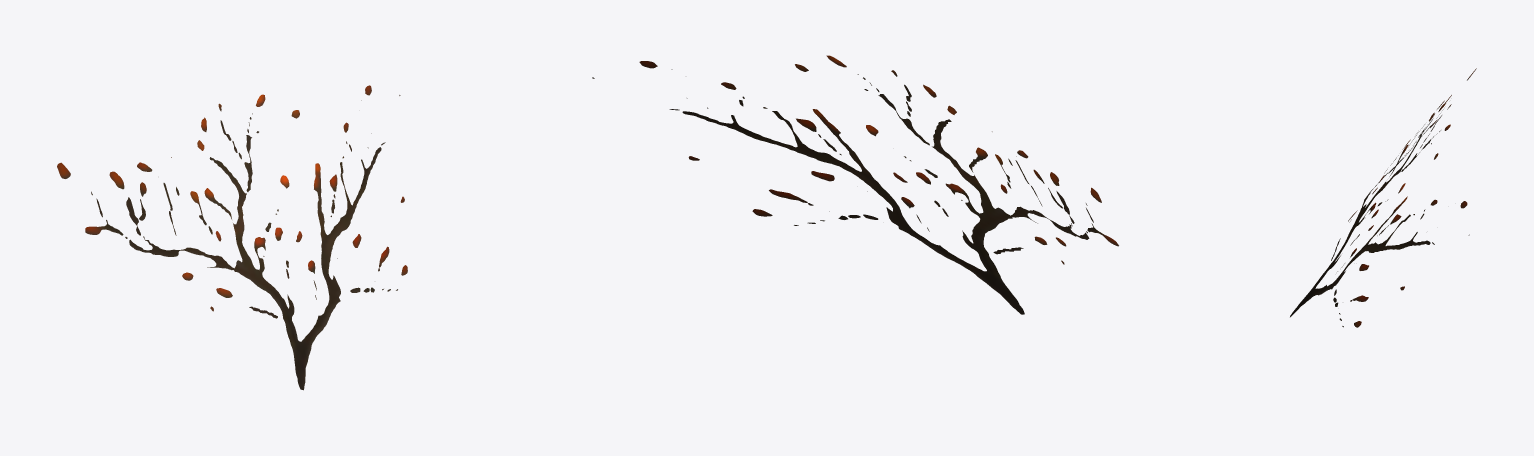
Rendered from rzjd_gress_06.FBX.
The picture shows the model from 3 angles, left to right: view 1: azimuth 30°, elevation 25°; view 2: azimuth 150°, elevation 25°; view 3: azimuth 270°, elevation 25°; orthographic projection. The views are drawn at different scales.
Parts seen in each view (by area): view 1: rzjd_gress_06; view 2: rzjd_gress_06; view 3: rzjd_gress_06.
Boxes of the visible parts, x1=… form: rzjd_gress_06: x1=57, y1=85, x2=407, y2=390; rzjd_gress_06: x1=592, y1=55, x2=1118, y2=314; rzjd_gress_06: x1=1290, y1=68, x2=1476, y2=327.
Bounding box in the file's own units: 359 × 214 × 238.
